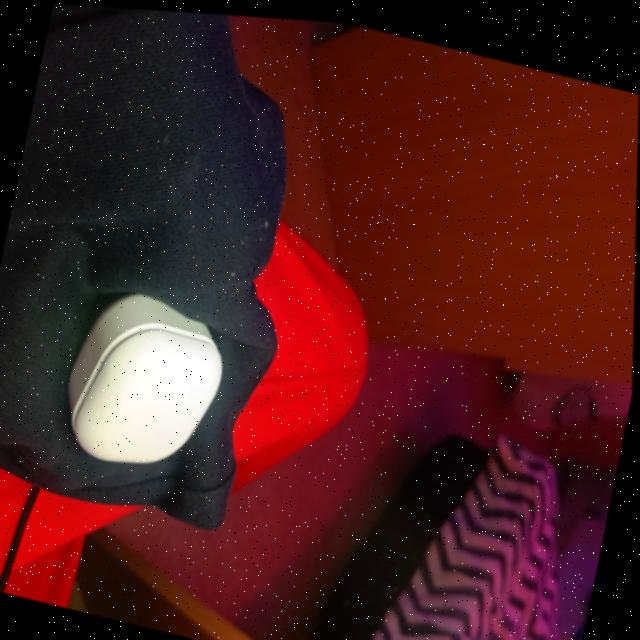headphones: (68, 290, 223, 461)
